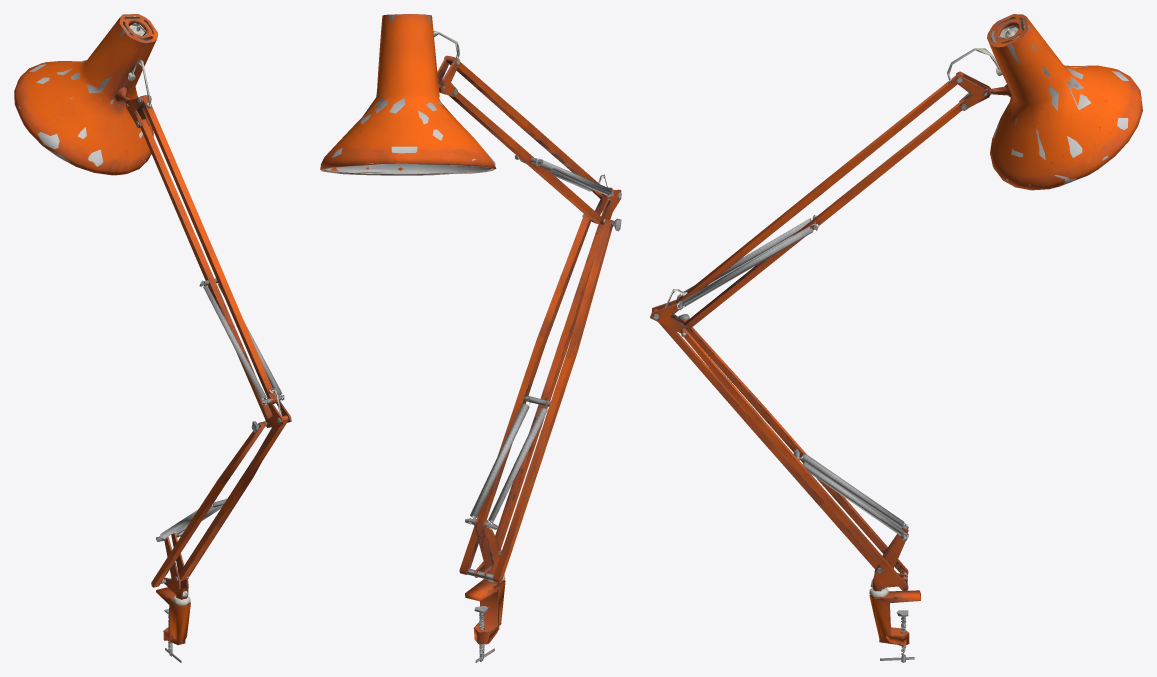
Rendered from desk_lamp_arm_01.glb.
The picture shows the model from 3 angles, left to right: view 1: azimuth 30°, elevation 25°; view 2: azimuth 150°, elevation 25°; view 3: azimuth 270°, elevation 25°; orthographic projection. The views are drawn at different scales.
Parts seen in each view (by area): view 1: desk_lamp_arm_01; view 2: desk_lamp_arm_01; view 3: desk_lamp_arm_01.
Boxes of the visible parts, x1,y1,x2,y2 form: desk_lamp_arm_01: (14, 14, 291, 662); desk_lamp_arm_01: (320, 14, 621, 662); desk_lamp_arm_01: (650, 14, 1142, 662).
Size of the model in its own units: 0.2017 by 0.8926 by 0.6132.
Materials: 2 (2 with a texture image).
